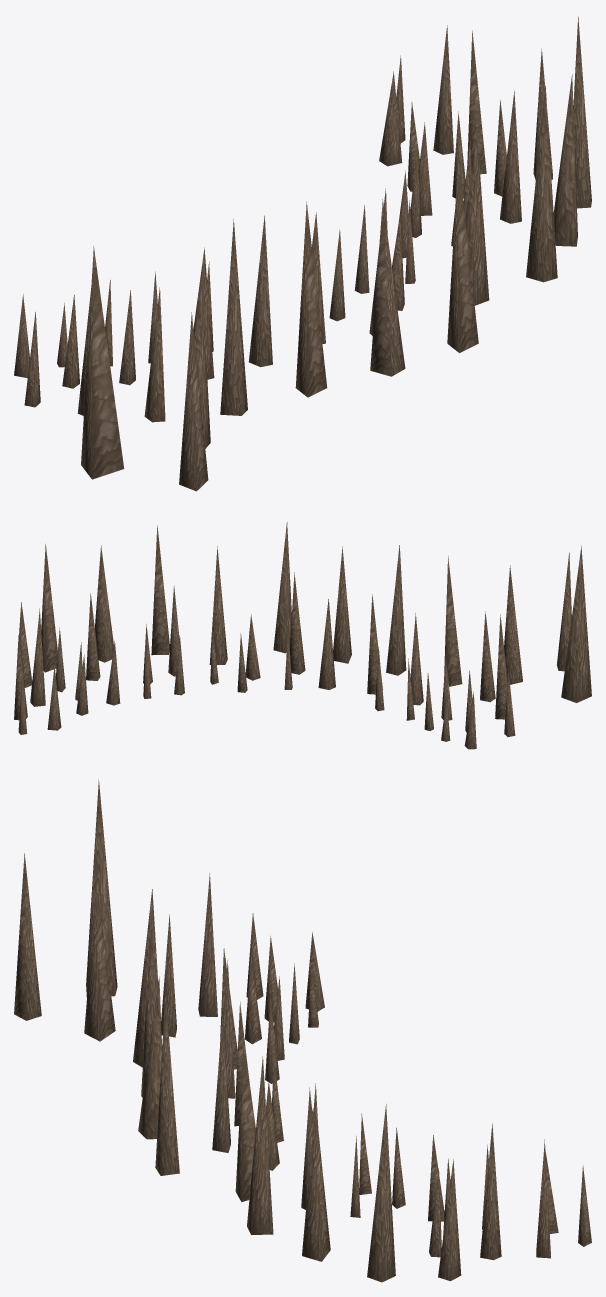
File: area_01_13.fbx
The picture shows the model from 3 angles, top to bottom: view 1: azimuth 30°, elevation 25°; view 2: azimuth 150°, elevation 25°; view 3: azimuth 270°, elevation 25°; orthographic projection. The views are drawn at different scales.
Visible parts, largest first — view 1: area_01_13; view 2: area_01_13; view 3: area_01_13.
Boxes of the visible parts, x1,y1,x2,y2 form: area_01_13: (14, 16, 591, 491); area_01_13: (14, 522, 591, 749); area_01_13: (14, 779, 591, 1282).
Size of the model in its own units: 49.57 by 16.3 by 40.56.
